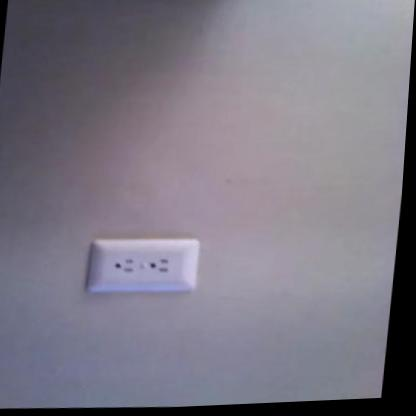OUTLET: (85, 233, 199, 297)
